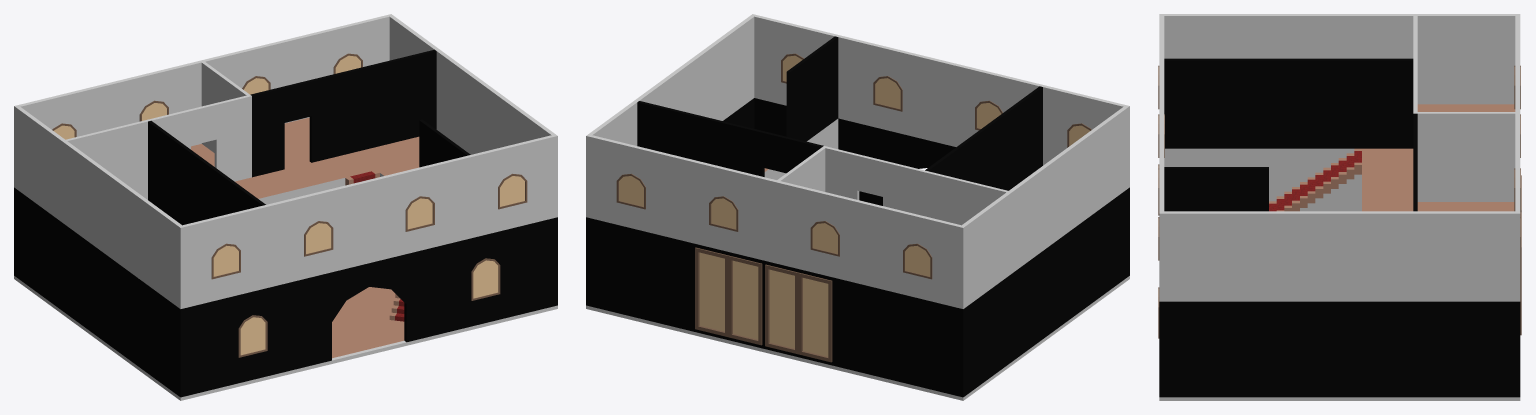
3 renders of one model, left to right at view 1: azimuth 30°, elevation 25°; view 2: azimuth 150°, elevation 25°; view 3: azimuth 270°, elevation 25°, orthographic. The views are drawn at different scales.
Parts seen in each view (by area): view 1: 2F, 1F, floor_2F, stair006; view 2: 2F, 1F, wall_1F; view 3: 2F, 1F, floor_2F, wall_1F, stair007.
Part boxes in pixels (box(x1,y1,x2,y2)): 2F: box(14, 14, 557, 308); 1F: box(14, 187, 557, 400); floor_2F: box(191, 117, 419, 201); stair006: box(345, 170, 404, 321); 2F: box(586, 14, 1129, 308); 1F: box(586, 98, 1129, 400); wall_1F: box(764, 122, 838, 179); 2F: box(1158, 14, 1520, 301); 1F: box(1158, 164, 1521, 400); floor_2F: box(1165, 104, 1515, 211); wall_1F: box(1164, 152, 1361, 211); stair007: box(1269, 148, 1361, 211).
Size of the model in its own units: 1700 by 745 by 1308.
Materials: 5 (1 with a texture image).
